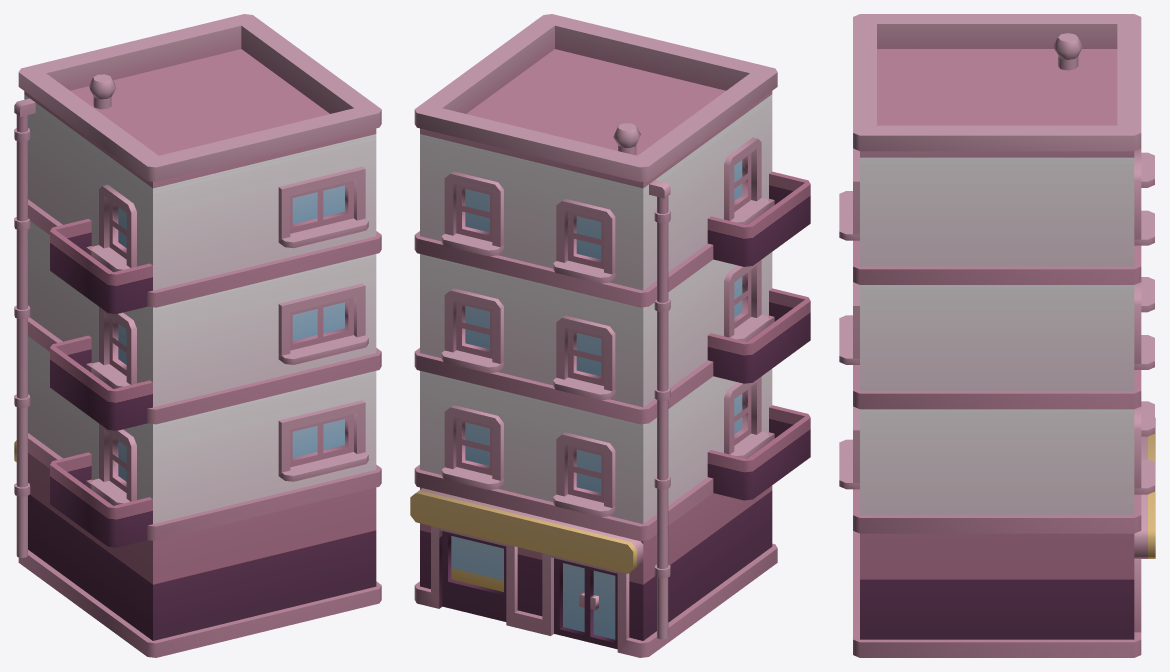
Rendered from apartment_4story.obj.
The picture shows the model from 3 angles, left to right: view 1: azimuth 30°, elevation 25°; view 2: azimuth 150°, elevation 25°; view 3: azimuth 270°, elevation 25°; orthographic projection. The views are drawn at different scales.
Parts seen in each view (by area): view 1: building-g; view 2: building-g; view 3: building-g.
Boxes of the visible parts, box(x1,y1,x2,y2) form: building-g: box(14, 14, 381, 657); building-g: box(410, 14, 810, 657); building-g: box(839, 14, 1155, 657).
Size of the model in its own units: 19.4 by 33.86 by 18.44.
Materials: 1 (1 with a texture image).
